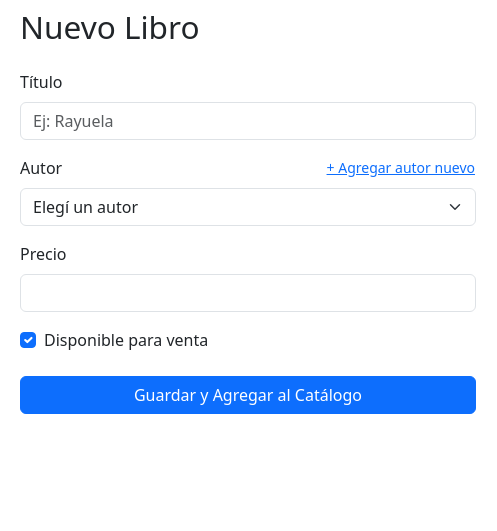
LibroNuevo: autores › exige nombre y nacionalidad cuando se crea un autor nuevo
Expected: the dropdown is shown, [20,188,476,226]
Click the button "+ Agregar autor nuevo": (401, 168) [326,156,476,179]
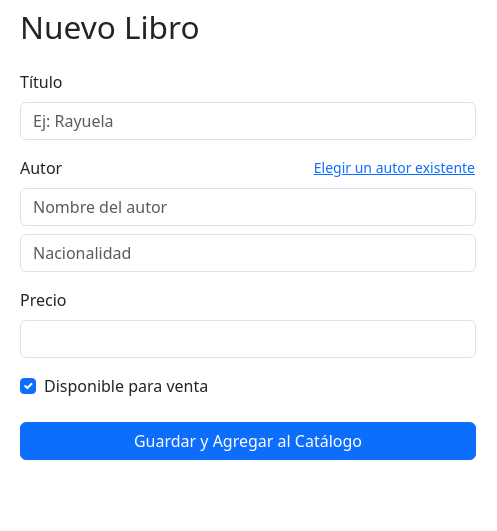
In the field with placeholder "Ej: Rayuela": (248, 121) [20,102,476,140], type "Libro X"
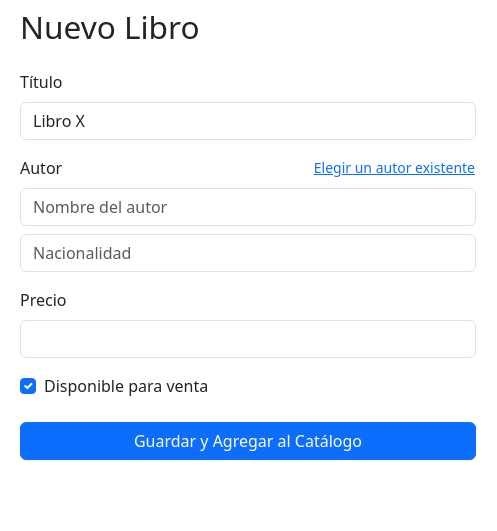
In the number field: (248, 339) [20,320,476,358], type "5000"
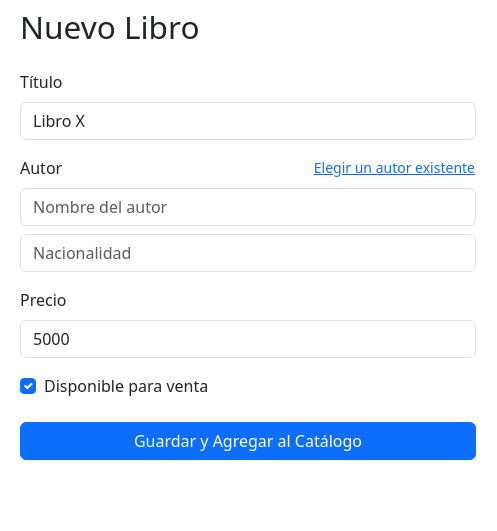
Click the button "Guardar y Agregar al Catálogo": (248, 441) [20,422,476,460]
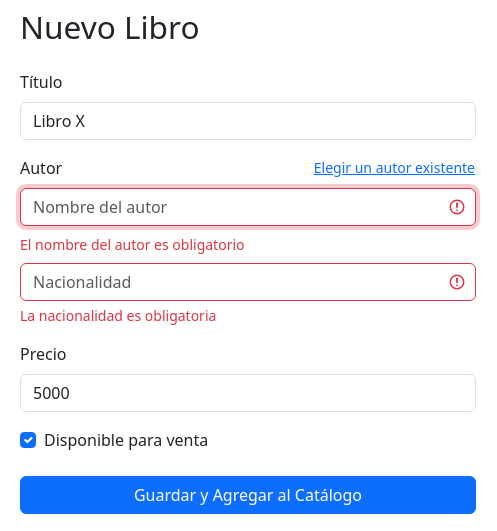
Expected: the text "El nombre del autor es obligatorio" is shown, [20,235,244,254]
Expected: the text "La nacionalidad es obligatoria" is shown, [20,306,216,325]
